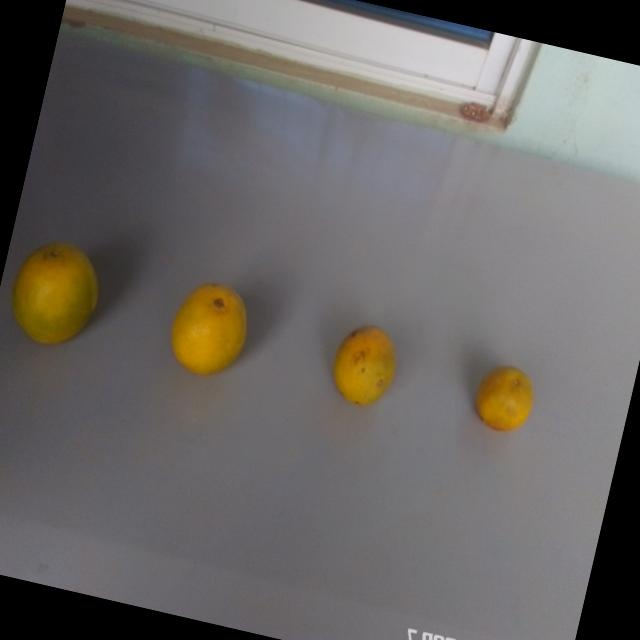agrume: (0, 223, 120, 359), (155, 263, 259, 395), (299, 310, 403, 430), (452, 340, 549, 450)
